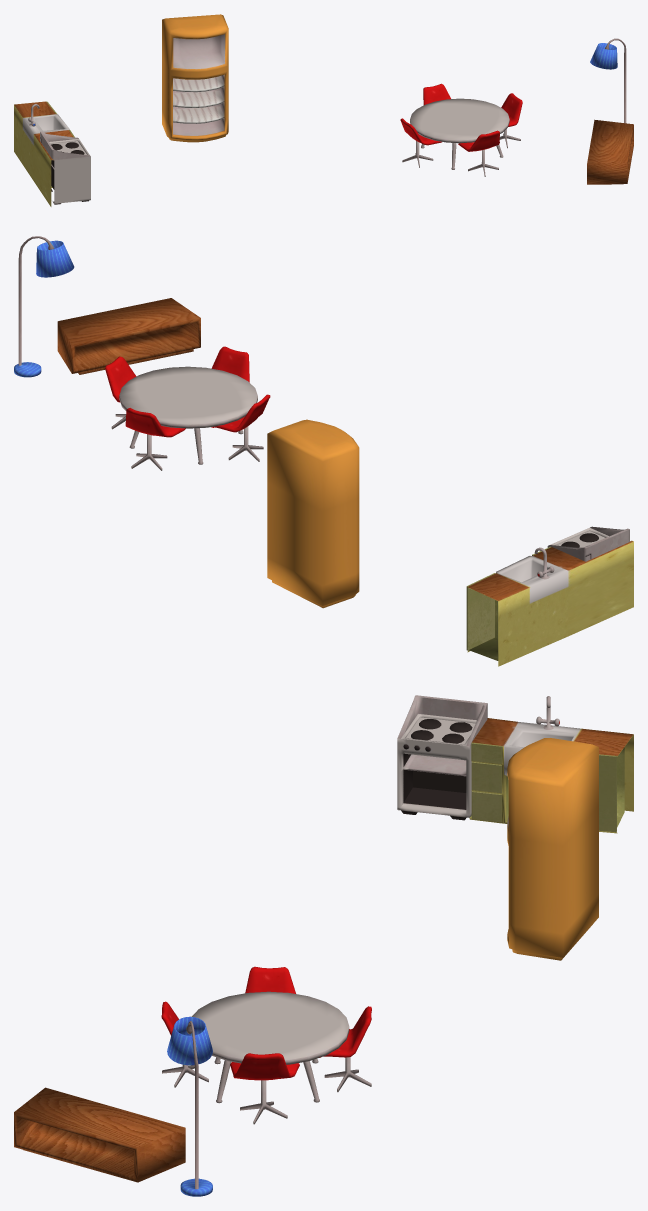
The model's file is mesh_60_kitchen_1.glb.
The picture shows the model from 3 angles, top to bottom: view 1: azimuth 30°, elevation 25°; view 2: azimuth 150°, elevation 25°; view 3: azimuth 270°, elevation 25°; orthographic projection. The views are drawn at different scales.
Visible parts, largest first — view 1: mesh_60_kitchen_1; view 2: mesh_60_kitchen_1; view 3: mesh_60_kitchen_1.
Boxes of the visible parts, bbox=[...] form: mesh_60_kitchen_1: bbox=[14, 14, 633, 206]; mesh_60_kitchen_1: bbox=[14, 236, 633, 666]; mesh_60_kitchen_1: bbox=[14, 695, 633, 1196].
Size of the model in its own units: 10.86 by 2.24 by 6.96.
Materials: 1 (1 with a texture image).
